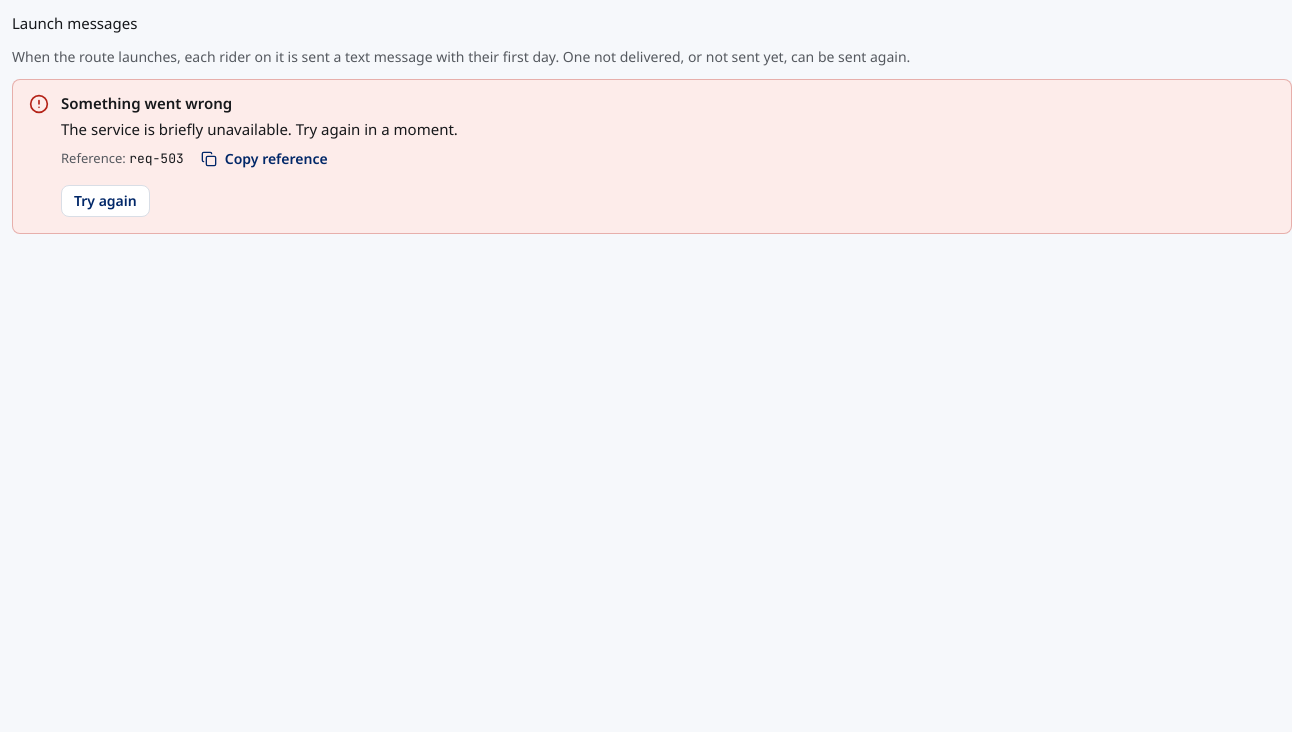
LaunchMessages: what was sent › shows an error with a retry
The image size is (1292, 732).
Expected: the text "req-503" is shown, [129, 150, 184, 167]
Click the button "Try again" at (105, 201), box [61, 185, 150, 217]
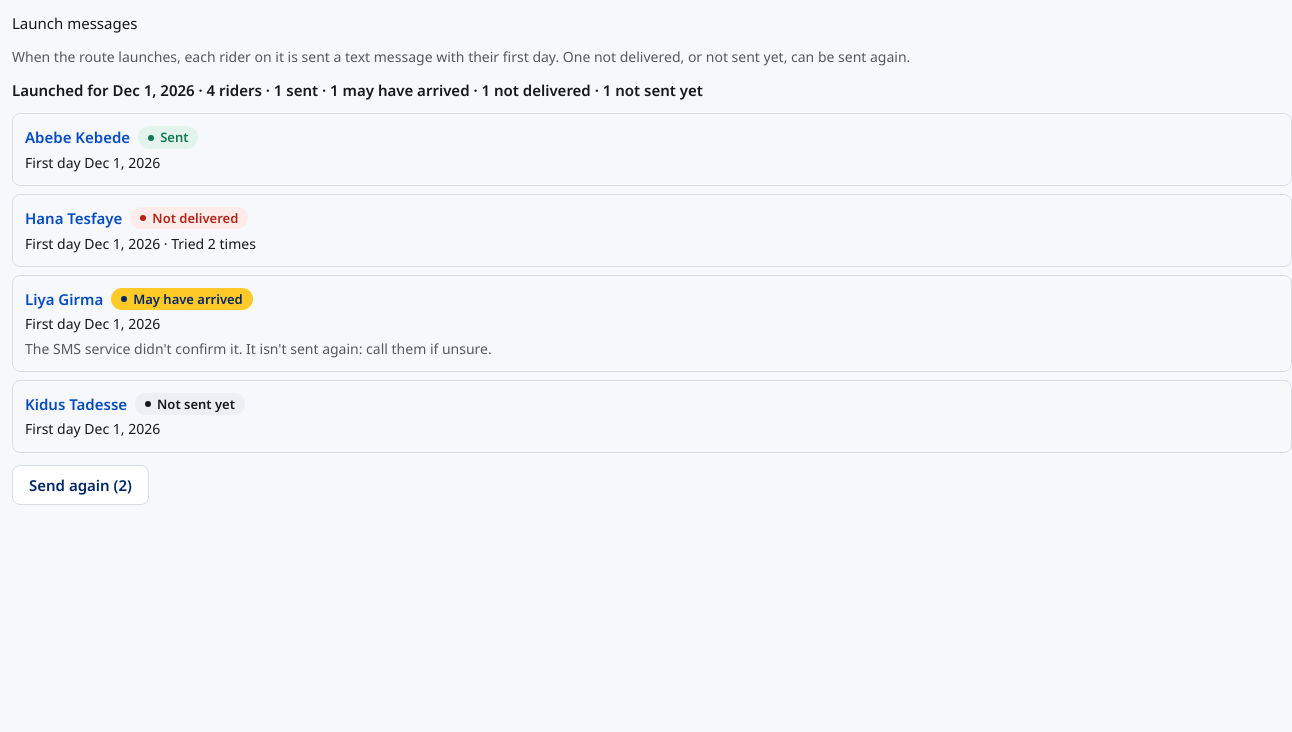
Expected: the link "Abebe Kebede" is shown, [25, 126, 130, 149]
